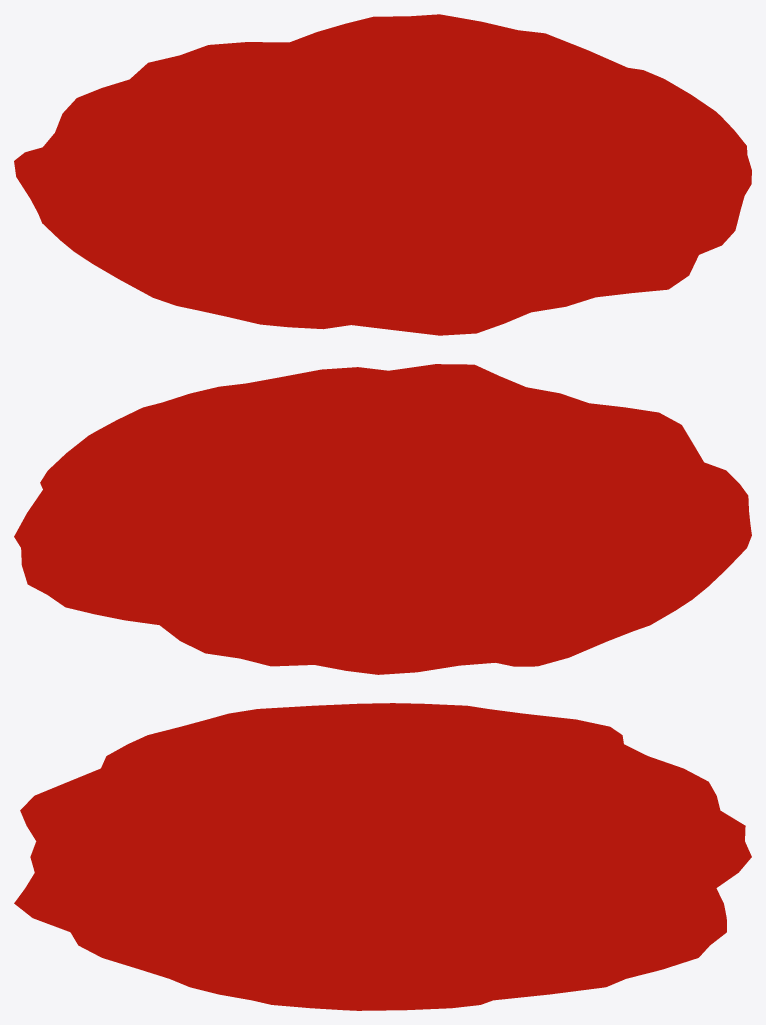
File: blood.glb
3 renders of one model, top to bottom at view 1: azimuth 30°, elevation 25°; view 2: azimuth 150°, elevation 25°; view 3: azimuth 270°, elevation 25°, orthographic.
Parts seen in each view (by area): view 1: Blood; view 2: Blood; view 3: Blood.
Boxes of the visible parts, x1,y1,x2,y2 form: Blood: [14, 14, 751, 335]; Blood: [14, 364, 751, 674]; Blood: [14, 703, 751, 1010].
Bounding box in the file's own units: 1.83 × 0 × 1.86.
